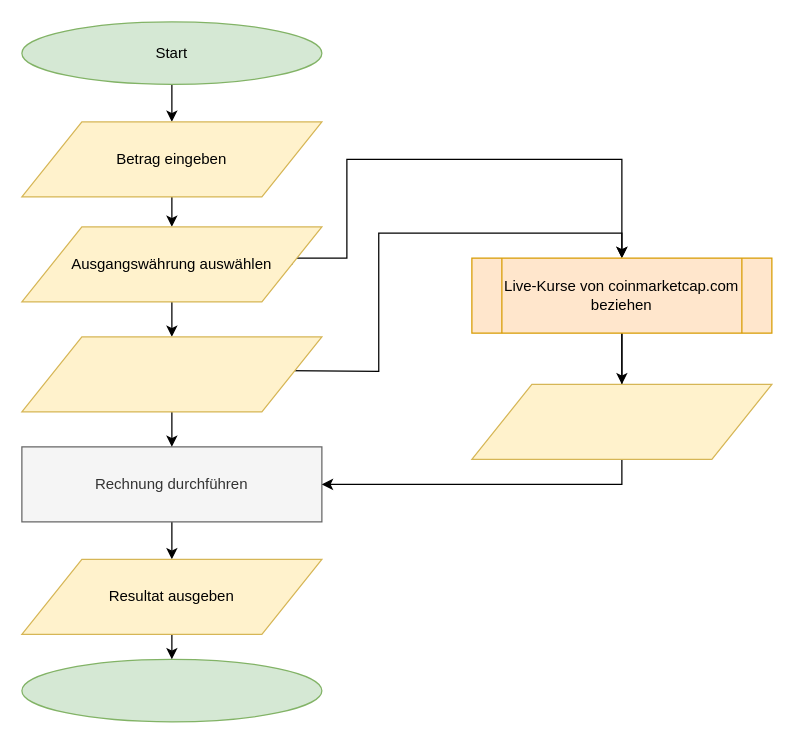
Image size: 794x744. Some labels were removed from this diagram. The centre of each missing label's shape, as x and y in pixels:
Ende: point 171,690
Kurse ausgeben: point 621,421
Zielwährung auswählen: point 171,374
